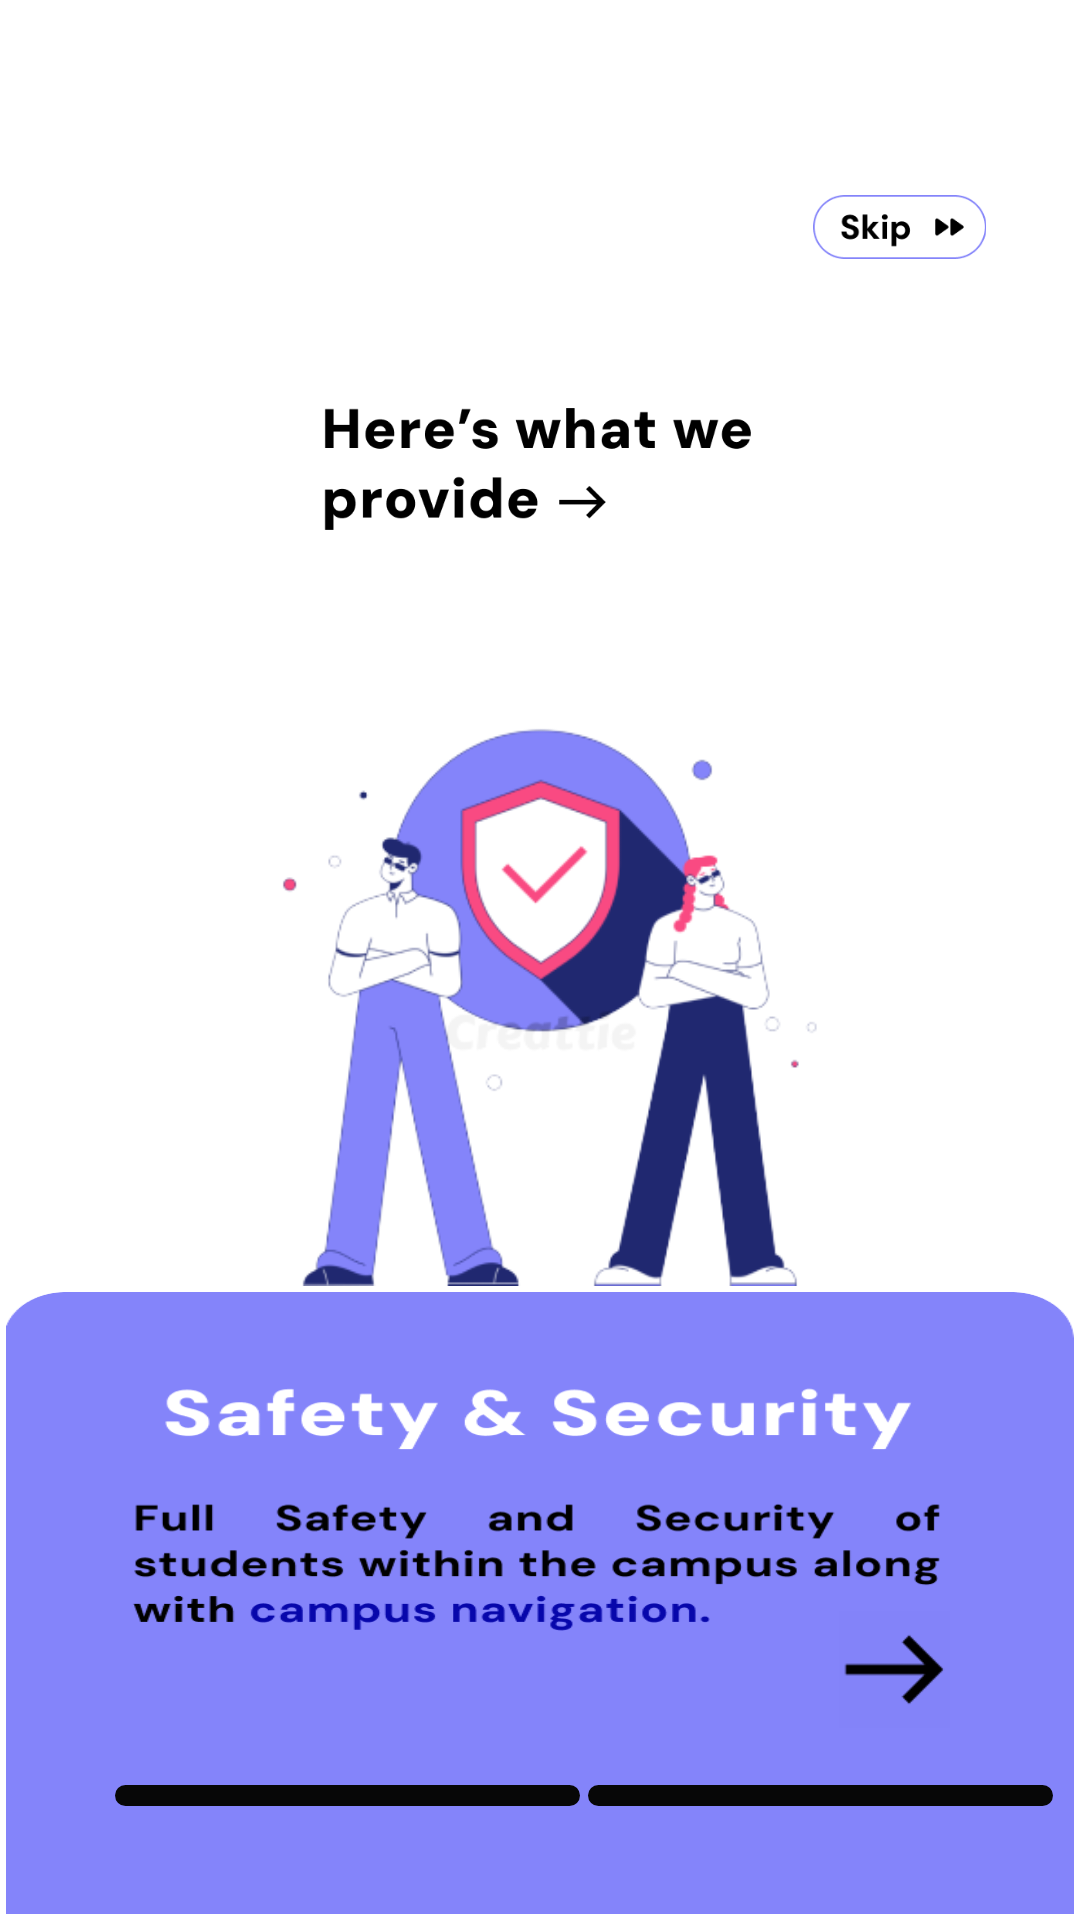

Icons on this 1080×1920 Android screen, each with its box as rect(x1, y1, x2, y2):
arrow next: rect(844, 1635, 943, 1704)
